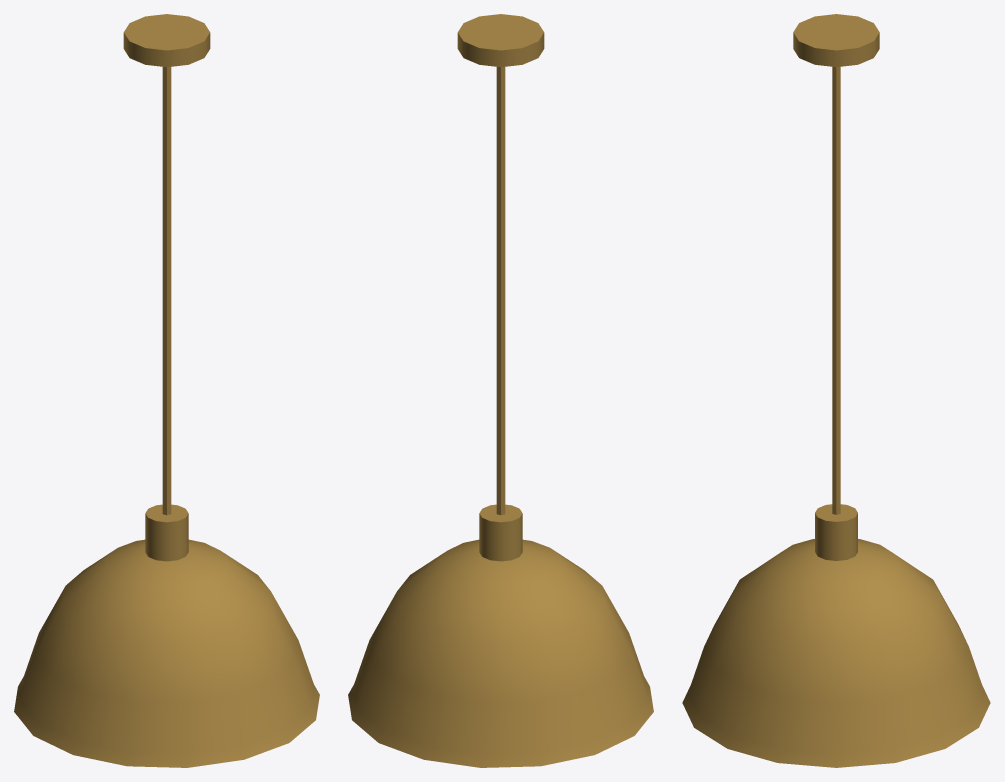
File: pendant_lamp.glb
3 renders of one model, left to right at view 1: azimuth 30°, elevation 25°; view 2: azimuth 150°, elevation 25°; view 3: azimuth 270°, elevation 25°, orthographic.
Parts seen in each view (by area): view 1: body; view 2: body; view 3: body.
Boxes of the visible parts, left/top/right/bottom form: body: left=14, top=14, right=319, bottom=767; body: left=348, top=14, right=653, bottom=767; body: left=682, top=14, right=990, bottom=767.
Bounding box in the file's own units: 0.5 × 1.22 × 0.5.
